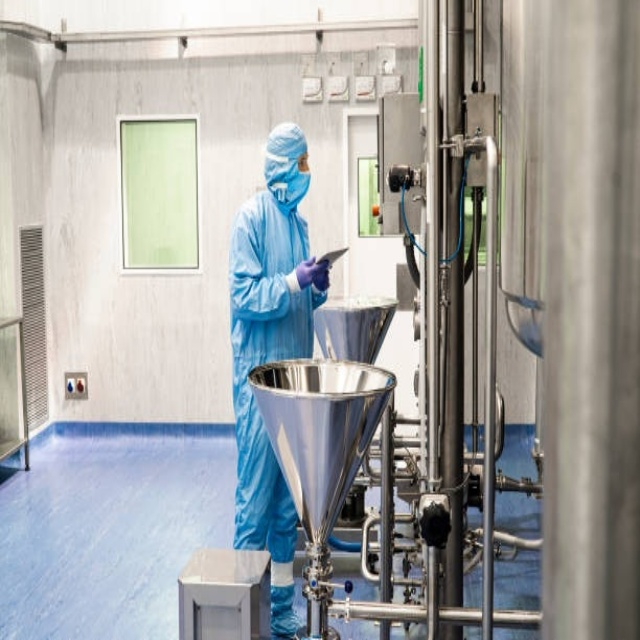Gafas: (297, 152, 310, 173)
Guantes: (295, 257, 327, 292)
Mascara: (280, 169, 311, 209)
